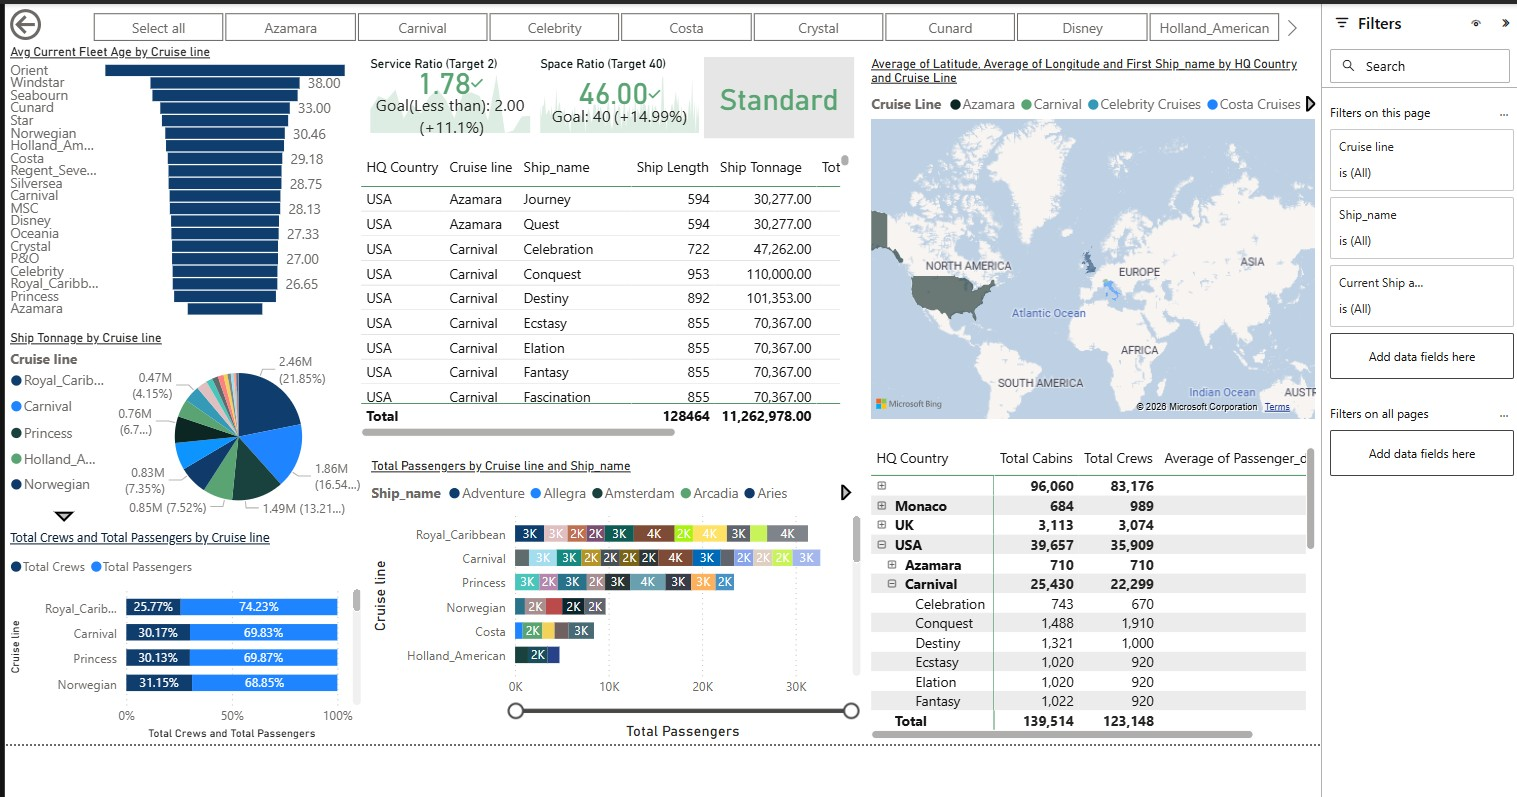

Layout of this report page (visuals, bound fields, positions):
{"tool":"powerbi","page":{"name":"Cruise line Dashboard","canvas":[1280,720],"ordinal":0},"visuals":[{"type":"barChart","fields":{"Category":["cruise_ship_info.Cruise_line"],"Y":["cruise_ship_info.Total Passengers"],"Series":["cruise_ship_info.Ship_name"]},"box":[351.1,442.6,486.3,277.2],"z":0},{"type":"pieChart","fields":{"Category":["cruise_ship_info.Cruise_line"],"Y":["cruise_ship_info.Ship Tonnage"]},"box":[0,318.1,351.1,192.6],"z":1000},{"type":"tableEx","fields":{"Values":["Cruise_HQ_Locations.HQ Country","cruise_ship_info.Cruise_line","cruise_ship_info.Ship_name","cruise_ship_info.Ship Length","cruise_ship_info.Ship Tonnage","cruise_ship_info.Total Cabins","cruise_ship_info.Total Crews","cruise_ship_info.Total Passengers"]},"box":[340.4,141,486.3,285],"z":2000},{"type":"funnel","fields":{"Category":["cruise_ship_info.Cruise_line"],"Y":["cruise_ship_info.Avg Current Fleet Age"]},"box":[0,39.9,340.4,268.4],"z":3000},{"type":"actionButton","box":[0,0,100,40],"z":4000},{"type":"hundredPercentStackedBarChart","fields":{"Category":["cruise_ship_info.Cruise_line"],"Y":["cruise_ship_info.Total Crews","cruise_ship_info.Total Passengers"]},"box":[0,510.4,351.3,209.2],"z":5000},{"type":"filledMap","fields":{"Y":["Avg(Cruise_HQ_Locations.Latitude)"],"X":["Avg(Cruise_HQ_Locations.Longitude)"],"Category":["Cruise_HQ_Locations.HQ Country"],"Series":["Cruise_HQ_Locations.Cruise Line"]},"box":[837.6,51.4,442.4,357],"z":6000},{"type":"pivotTable","fields":{"Rows":["Cruise_HQ_Locations.HQ Country","cruise_ship_info.Cruise line","cruise_ship_info.Ship_name"],"Values":["cruise_ship_info.Total Cabins","cruise_ship_info.Total Crews","Avg(cruise_ship_info.Passenger_density)"]},"box":[837.6,426,442.4,294.3],"z":7000},{"type":"kpi","title":"Service Ratio (Target 2)","fields":{"Indicator":["cruise_ship_info.Service Ratio"],"Goal":["cruise_ship_info.Service Target"],"TrendLine":["cruise_ship_info.Cruise line"]},"box":[349.8,51.4,165.7,79.2],"z":8000},{"type":"kpi","title":"Space Ratio (Target 40)","fields":{"Indicator":["cruise_ship_info.Space Ratio"],"TrendLine":["cruise_ship_info.Ship_name"],"Goal":["cruise_ship_info.Space Target"]},"box":[515.5,51.4,164.6,79.2],"z":9000},{"type":"card","fields":{"Values":["cruise_ship_info.Premium Status"]},"box":[679.9,51.6,145.9,78.8],"z":10000},{"type":"slicer","fields":{"Values":["cruise_ship_info.Cruise line"]},"box":[60.3,1.9,1203.2,37.9],"z":11000}]}

Visuals, with their boxes on the page's 1280x720 design canvas (x1, y1, x2, y2). These are canvas units, not pixel positions in the 1517x797 screenshot, which may show the page scaled, cropped or inside an application window:
barChart - cruise_ship_info.Cruise_line x cruise_ship_info.Total Passengers: 351, 443, 837, 720
pieChart - cruise_ship_info.Cruise_line x cruise_ship_info.Ship Tonnage: 0, 318, 351, 511
tableEx - Cruise_HQ_Locations.HQ Country x cruise_ship_info.Cruise_line: 340, 141, 827, 426
funnel - cruise_ship_info.Cruise_line x cruise_ship_info.Avg Current Fleet Age: 0, 40, 340, 308
actionButton: 0, 0, 100, 40
hundredPercentStackedBarChart - cruise_ship_info.Cruise_line x cruise_ship_info.Total Crews: 0, 510, 351, 720
filledMap - Avg(Cruise_HQ_Locations.Latitude) x Avg(Cruise_HQ_Locations.Longitude): 838, 51, 1280, 408
pivotTable - Cruise_HQ_Locations.HQ Country x cruise_ship_info.Cruise line: 838, 426, 1280, 720
"Service Ratio (Target 2)" kpi: 350, 51, 516, 131
"Space Ratio (Target 40)" kpi: 516, 51, 680, 131
card - cruise_ship_info.Premium Status: 680, 52, 826, 130
slicer - cruise_ship_info.Cruise line: 60, 2, 1264, 40
